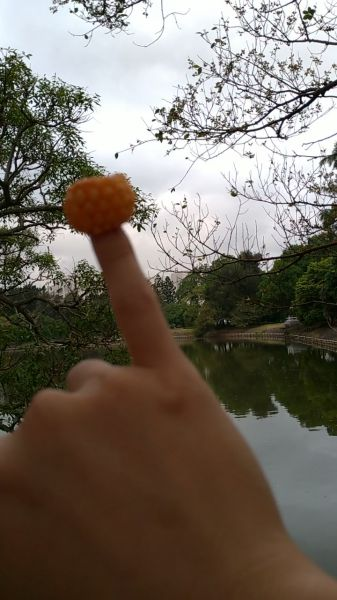eggs: (65, 177, 133, 233)
